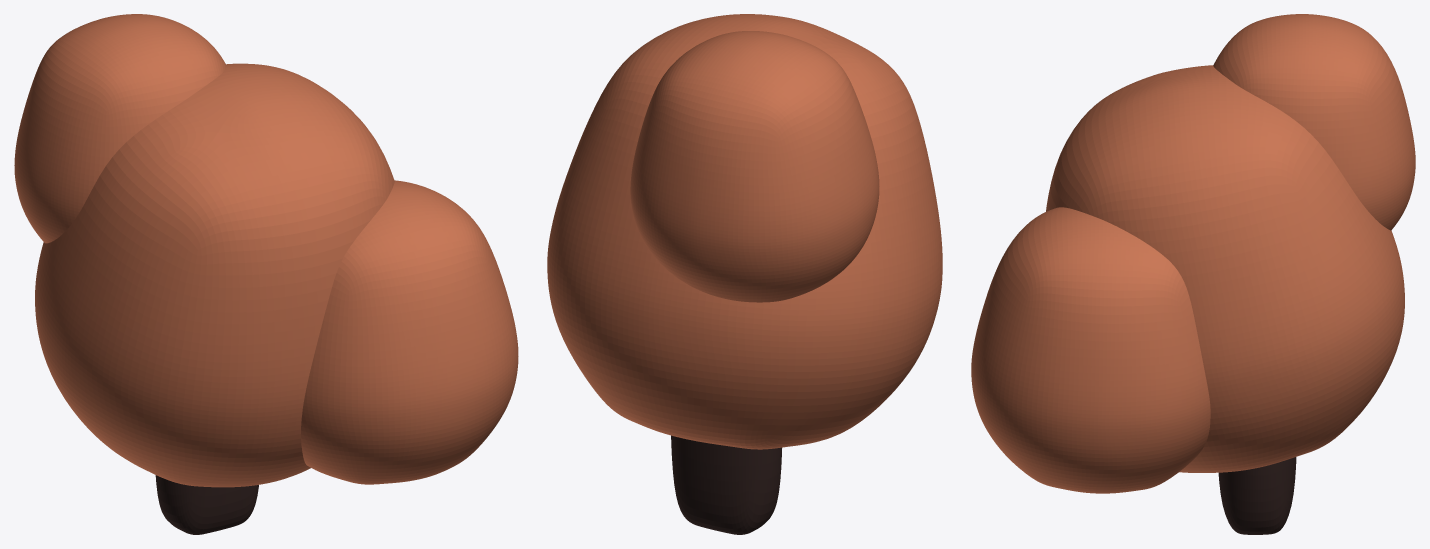
File: triplepalerangetree.fbx
3 views of the same model, side by side, from view 1: azimuth 30°, elevation 25°; view 2: azimuth 150°, elevation 25°; view 3: azimuth 270°, elevation 25° (orthographic). The views are drawn at different scales.
Parts seen in each view (by area): view 1: Roundcube.021, Roundcube.024, Roundcube.023, Roundcube.022; view 2: Roundcube.021, Roundcube.023, Roundcube.022; view 3: Roundcube.021, Roundcube.024, Roundcube.023, Roundcube.022.
Part boxes in pixels (x1=…): Roundcube.021: x1=35, y1=63, x2=394, y2=487; Roundcube.024: x1=301, y1=180, x2=518, y2=484; Roundcube.023: x1=14, y1=14, x2=226, y2=243; Roundcube.022: x1=155, y1=475, x2=258, y2=534; Roundcube.021: x1=547, y1=14, x2=942, y2=449; Roundcube.023: x1=630, y1=31, x2=879, y2=302; Roundcube.022: x1=671, y1=435, x2=781, y2=534; Roundcube.021: x1=1046, y1=65, x2=1404, y2=472; Roundcube.024: x1=971, y1=207, x2=1210, y2=493; Roundcube.023: x1=1213, y1=14, x2=1415, y2=230; Roundcube.022: x1=1218, y1=457, x2=1296, y2=534.
Size of the model in its own units: 171 by 216 by 184.
